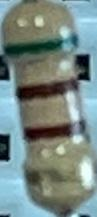Brown: (24, 121, 89, 145), (19, 77, 79, 102)
Green: (5, 33, 78, 57)
Side-Silver: (26, 159, 95, 188)
